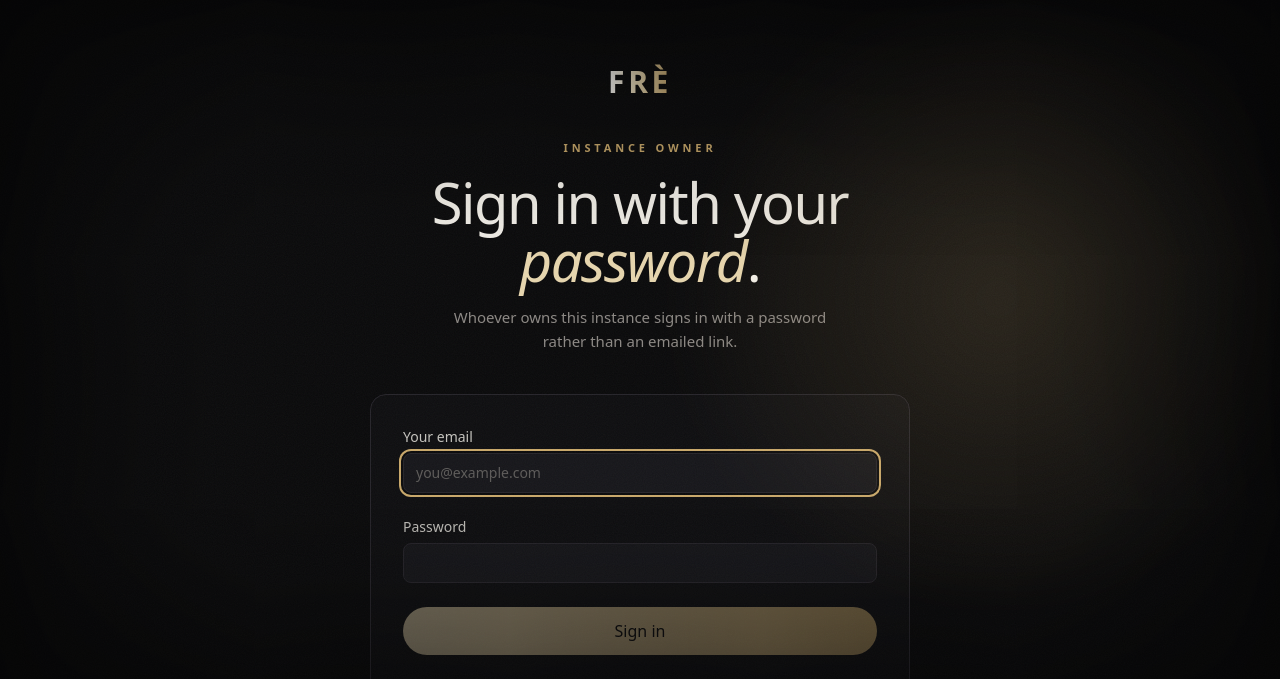
Scenario: OwnerSignInPage › renders the one constant error on 401
Type "owner@example.com" into the field labelled "Your email". click: [640, 473]
box: x1=403 y1=453 x2=877 y2=493
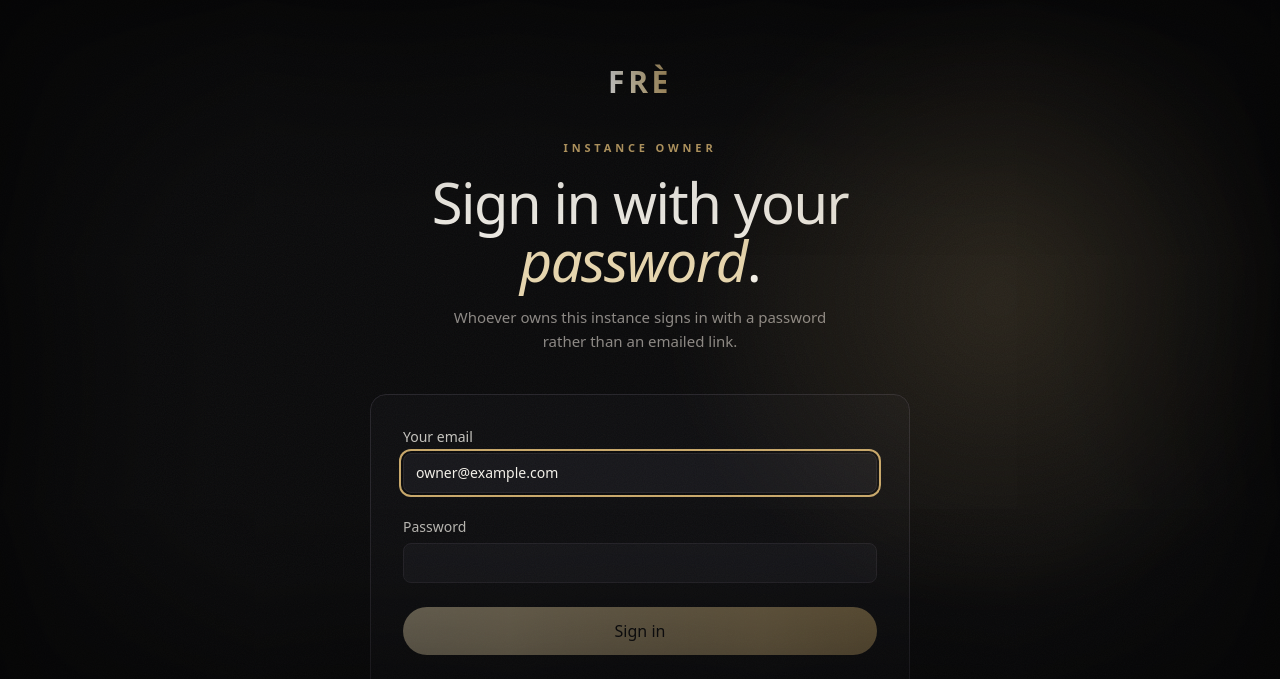
Type "wrong-password-here" into the password field labelled "Password". click: [640, 563]
box: x1=403 y1=543 x2=877 y2=583
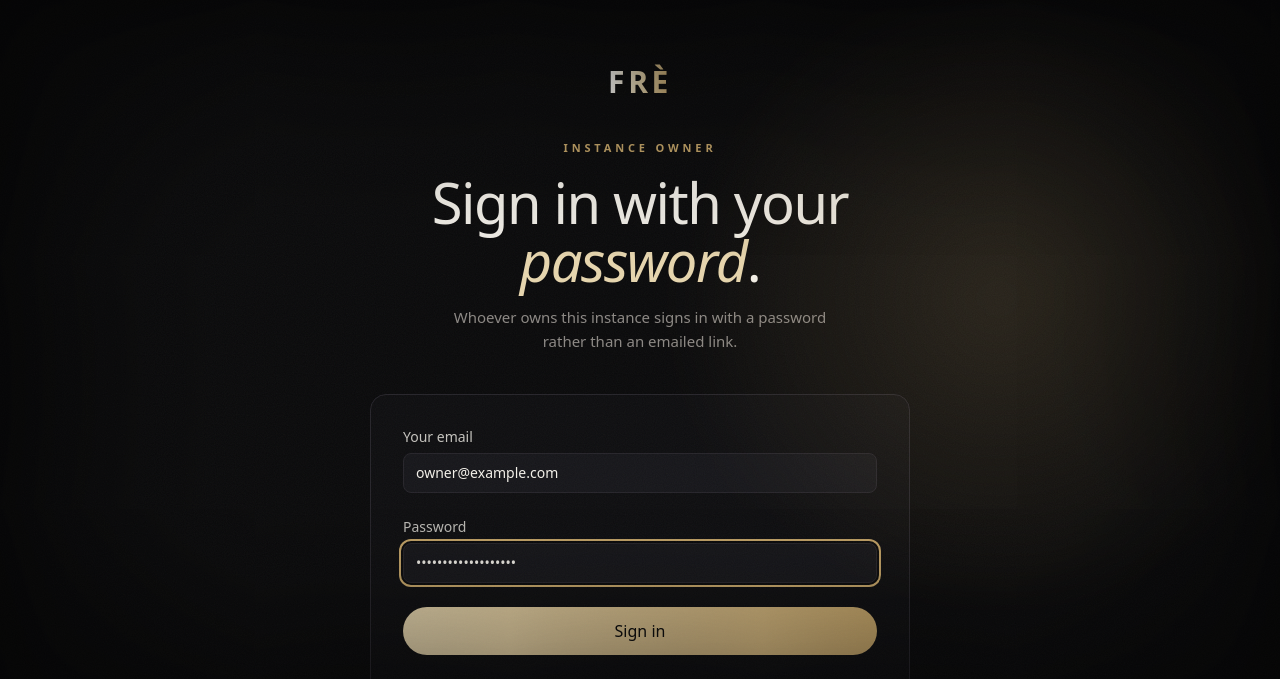
Click the button "Sign in". click: [640, 631]
box: x1=403 y1=607 x2=877 y2=655
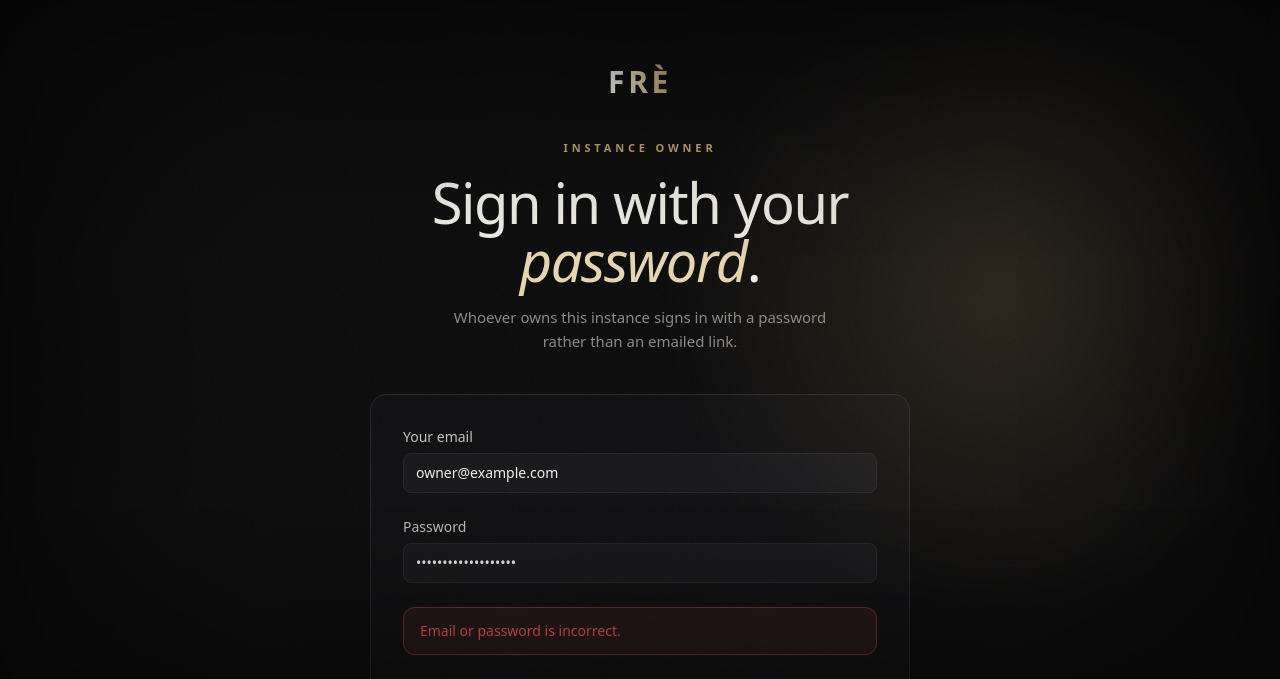
Check: the message reads "Email or password is incorrect.", box x1=420 y1=621 x2=621 y2=640
